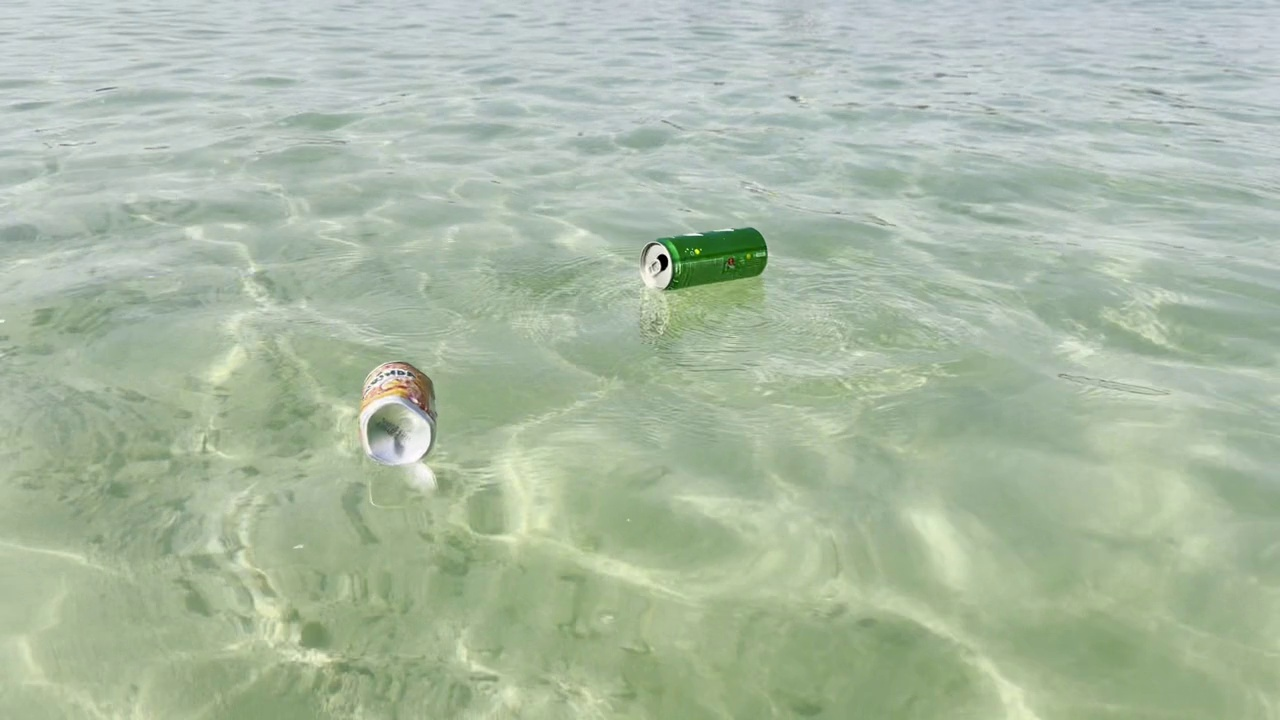debris: (630, 217, 775, 301), (355, 352, 443, 476)
